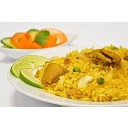briyani: (45, 52, 128, 100)
